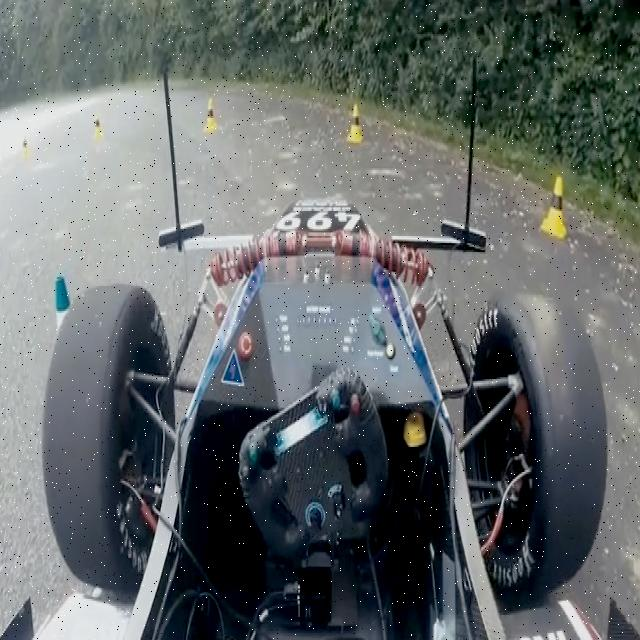blue_cone: (42, 260, 87, 334)
yellow_cone: (529, 166, 567, 256), (341, 88, 366, 142), (194, 92, 223, 136)
